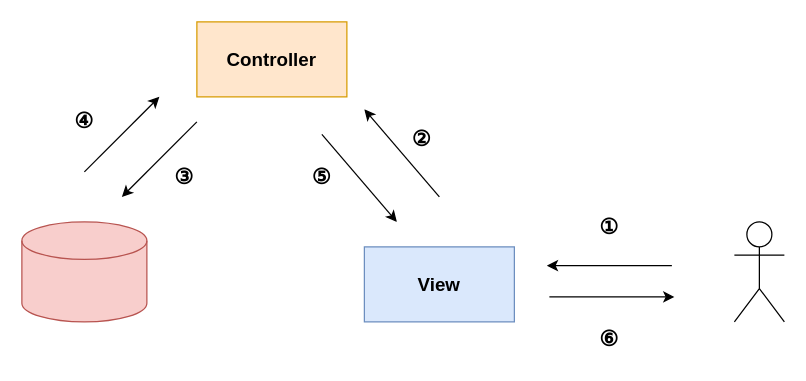
Some shapes in this 806 by 381 pixel diagram are drawn without their labels. The centre of each missing label's shape, as x and y in pixels:
"Model" belongs at point 84,271.
"User" belongs at point 758,271.
